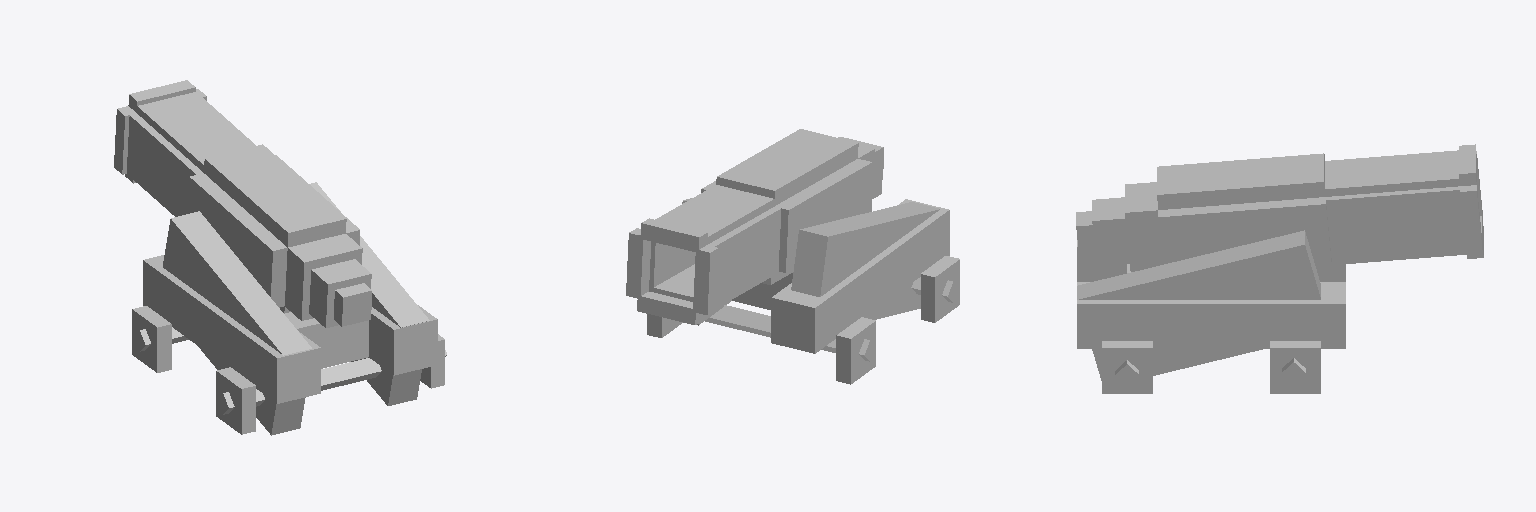
The model's file is ship_cannon.obj.
3 views of the same model, side by side, from view 1: azimuth 30°, elevation 25°; view 2: azimuth 150°, elevation 25°; view 3: azimuth 270°, elevation 25° (orthographic).
Parts seen in each view (by area): view 1: cube, achse1; view 2: cube, achse2; view 3: cube.
Boxes of the visible parts, <box> form: cube: <box>114,80,444,435</box>; achse1: <box>217,350,446,414</box>; cube: <box>626,129,959,384</box>; achse2: <box>705,305,875,361</box>; cube: <box>1076,144,1483,393</box>.
Size of the model in its own units: 0.9375 by 0.7981 by 1.51.